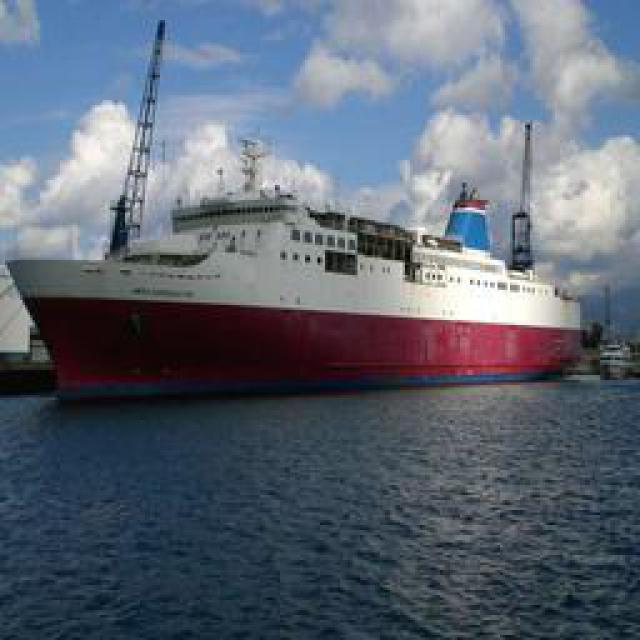Ship: (24, 163, 599, 391)
